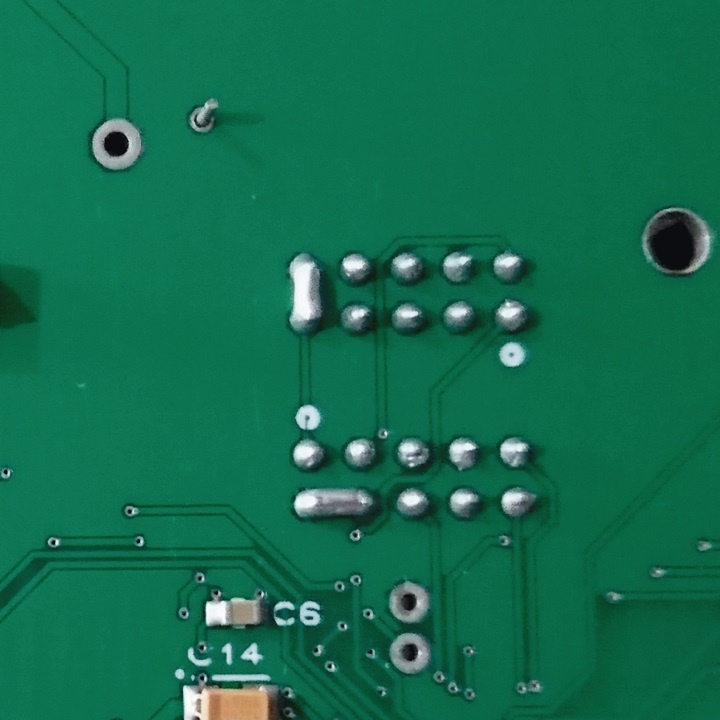F: (84, 115, 148, 172), (384, 578, 431, 628), (388, 630, 435, 678), (186, 95, 225, 139)
P: (281, 248, 324, 338), (290, 483, 379, 523)
